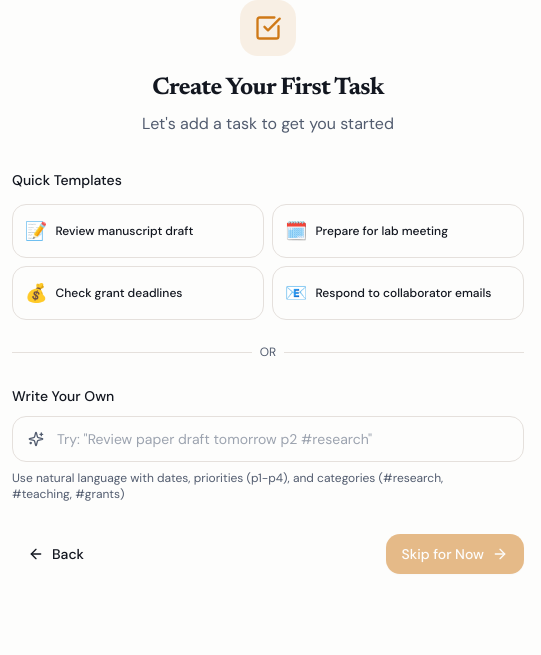
Test case: StepFirstTask › shows Create Task button when template is selected
This screenshot has width=541, height=655.
Click the text "Review manuscript draft": (124, 231) [56, 223, 193, 239]
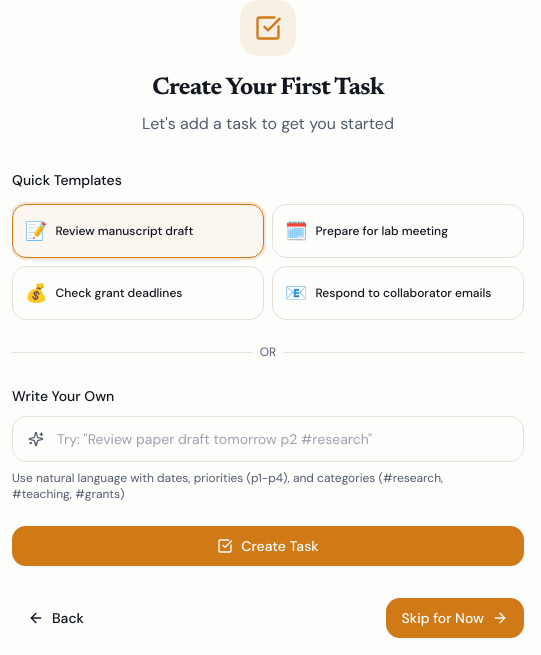
Now the button "Create Task" is shown, box [12, 526, 524, 566]
